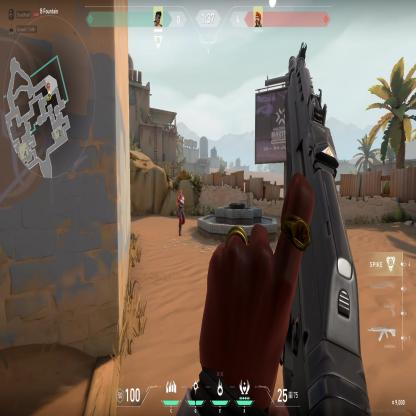enemy: (176, 190, 186, 237)
